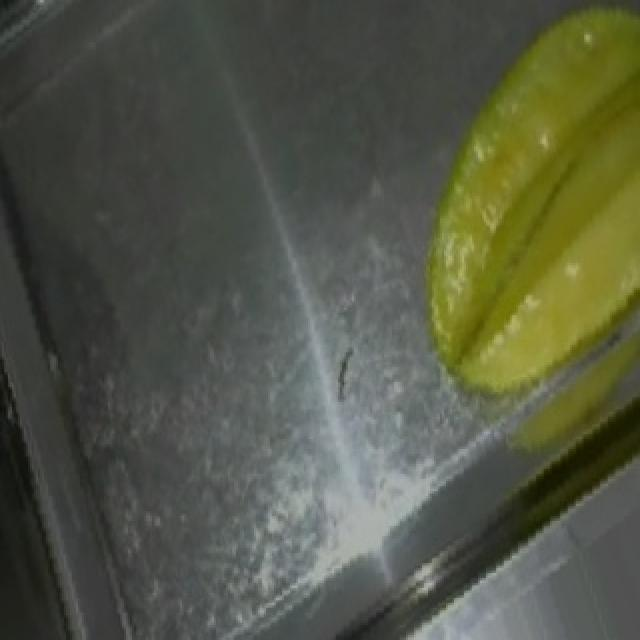fruit: (446, 2, 640, 380)
